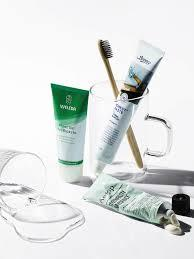toothpaste: (90, 37, 167, 175), (76, 163, 183, 237), (51, 72, 95, 186)
